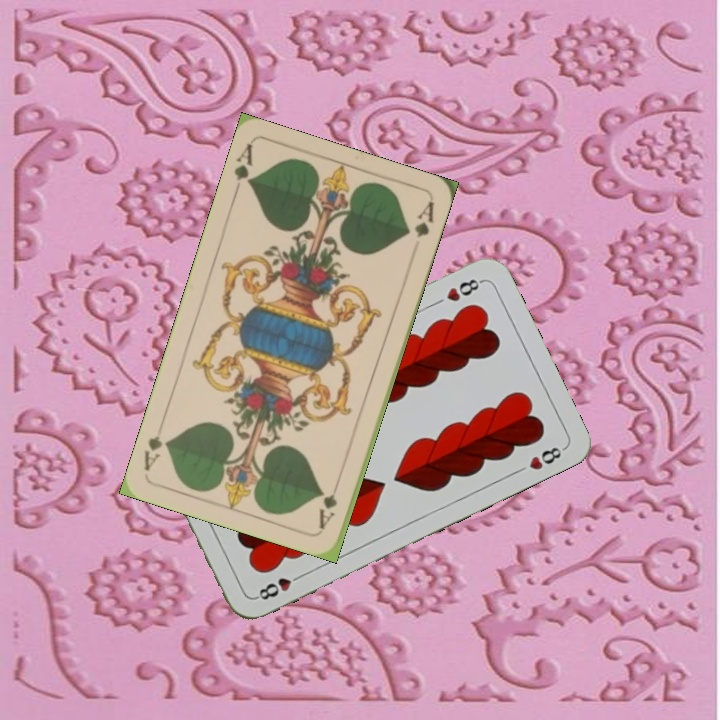GA: (315, 474, 343, 531), (229, 140, 256, 199)
H8: (251, 569, 306, 603), (442, 274, 486, 304)
